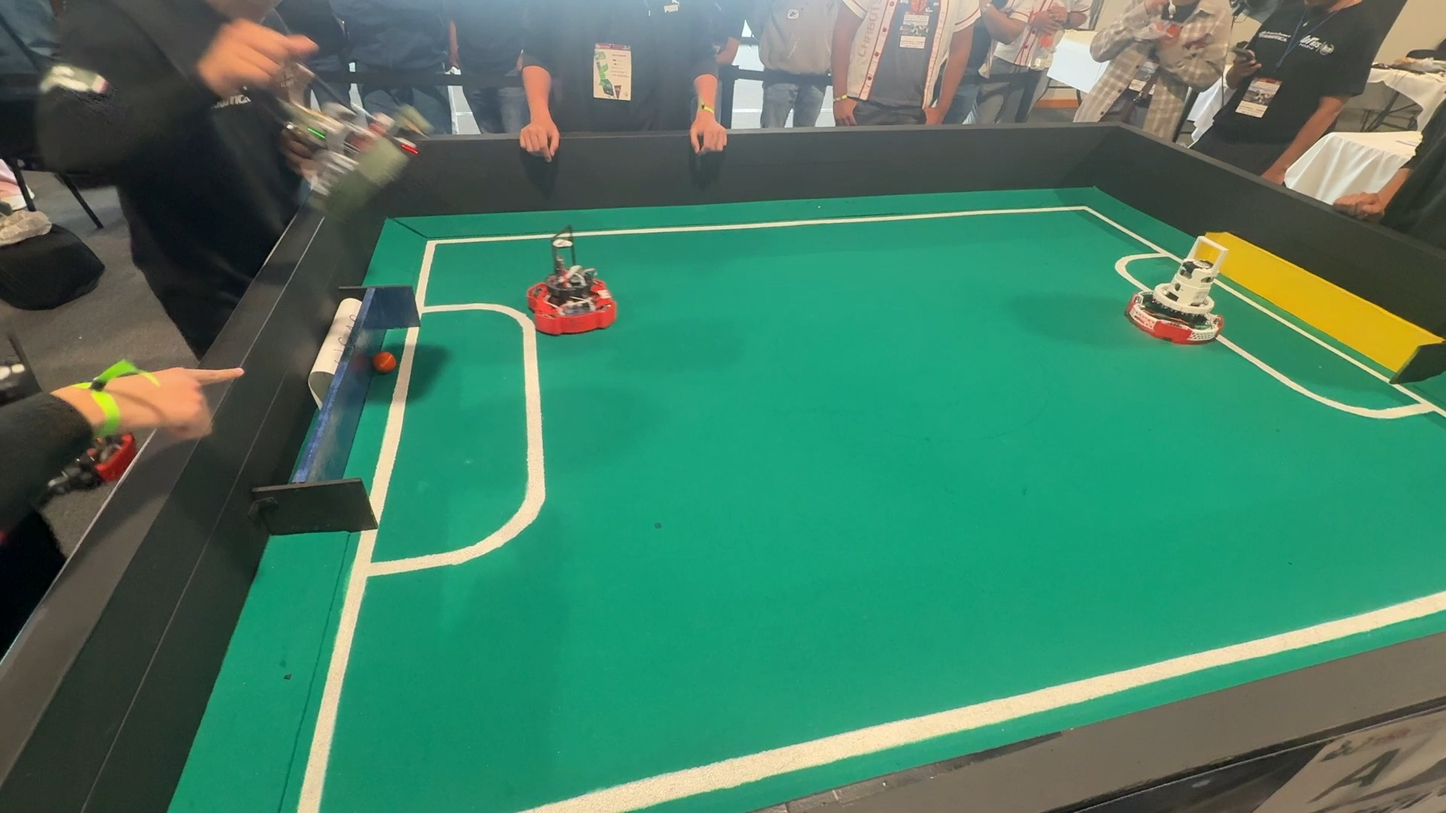Robot: (1108, 227, 1252, 357), (518, 237, 621, 342)
pelota: (379, 351, 402, 377)
